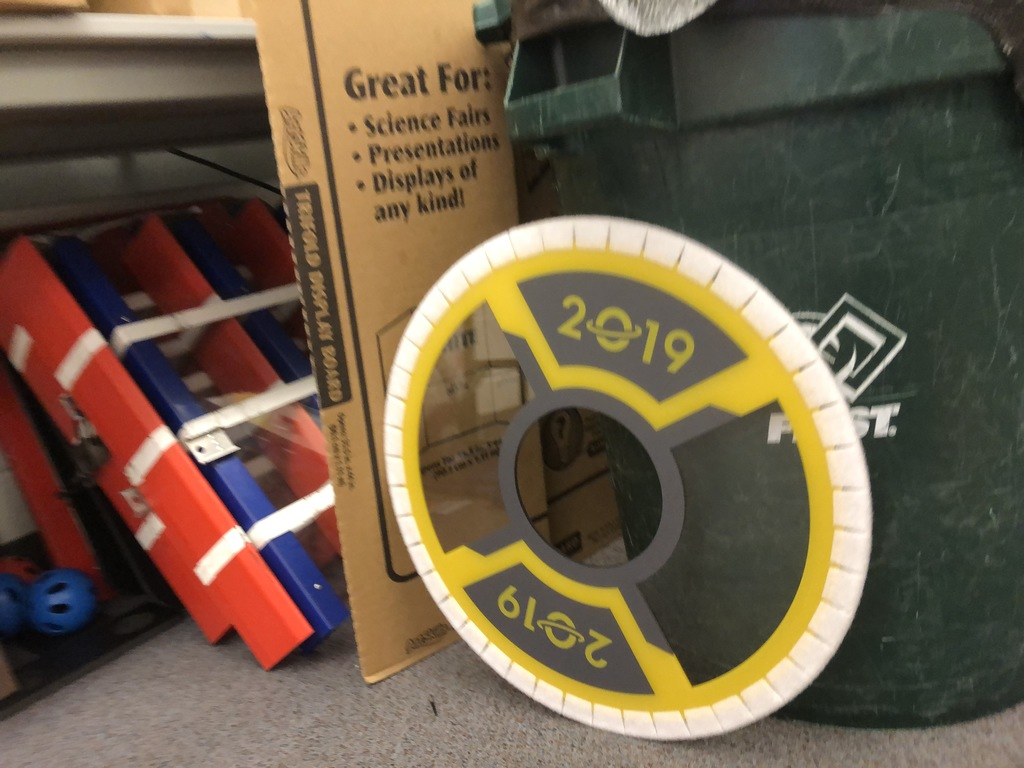hatch_panel: (371, 209, 893, 762)
